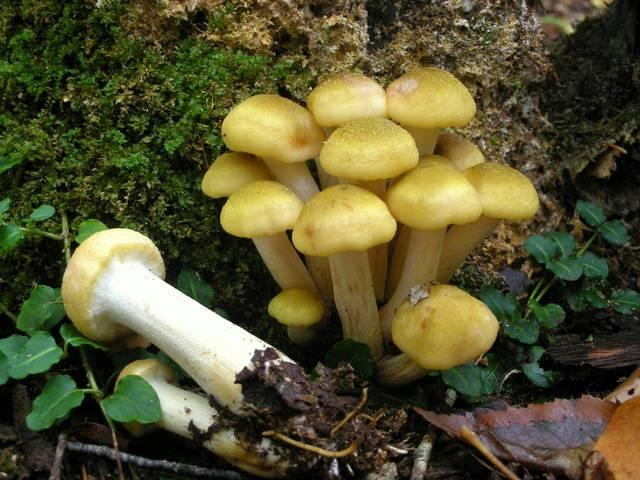edible_mushroom: (200, 65, 539, 381), (55, 222, 208, 354)
